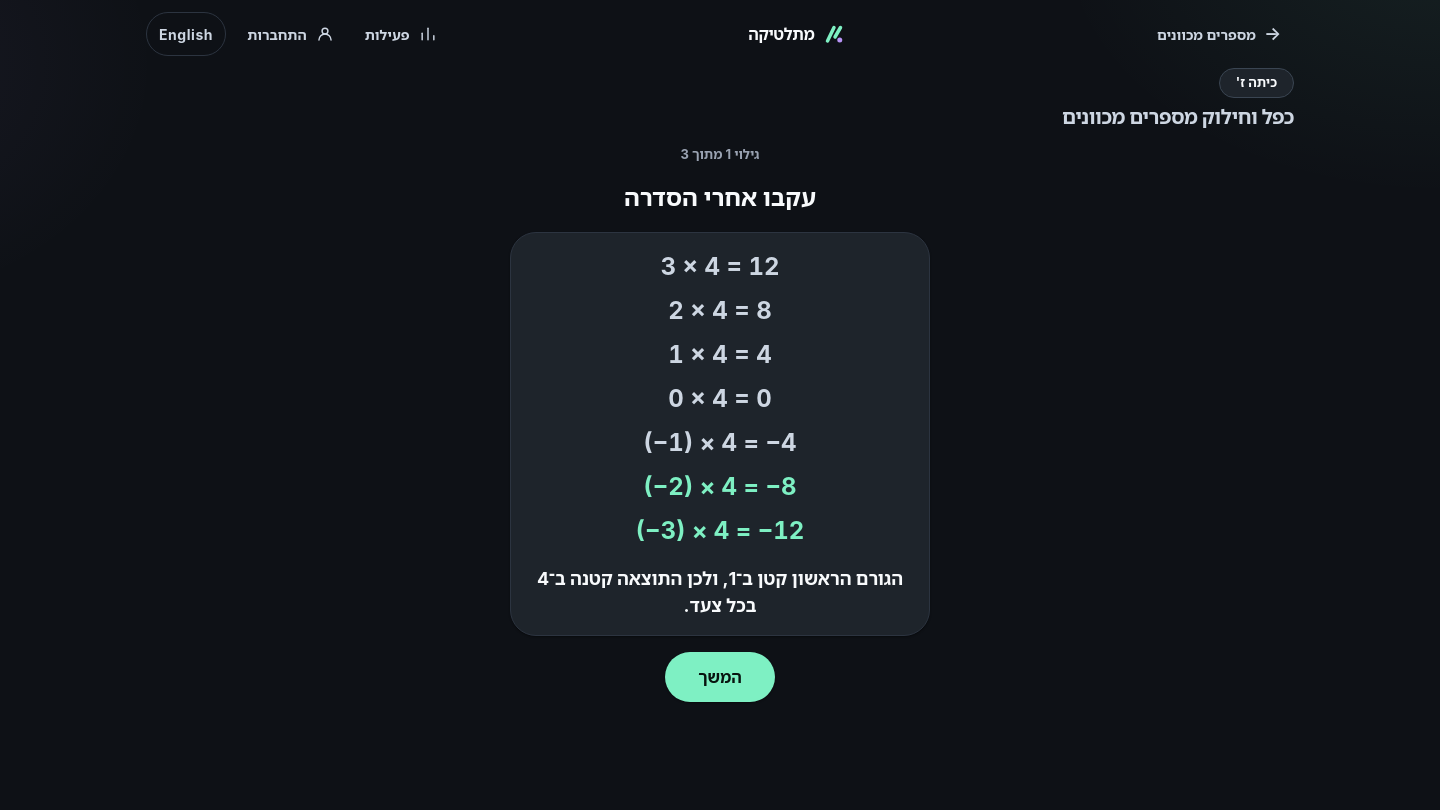
Test case: Multiplying & Dividing Signed Numbers — Training Mode integration › opens shared Practice and Personal Challenge setup after discovery
Click the button "המשך" at {"x": 720, "y": 677}, box x1=665 y1=652 x2=775 y2=702
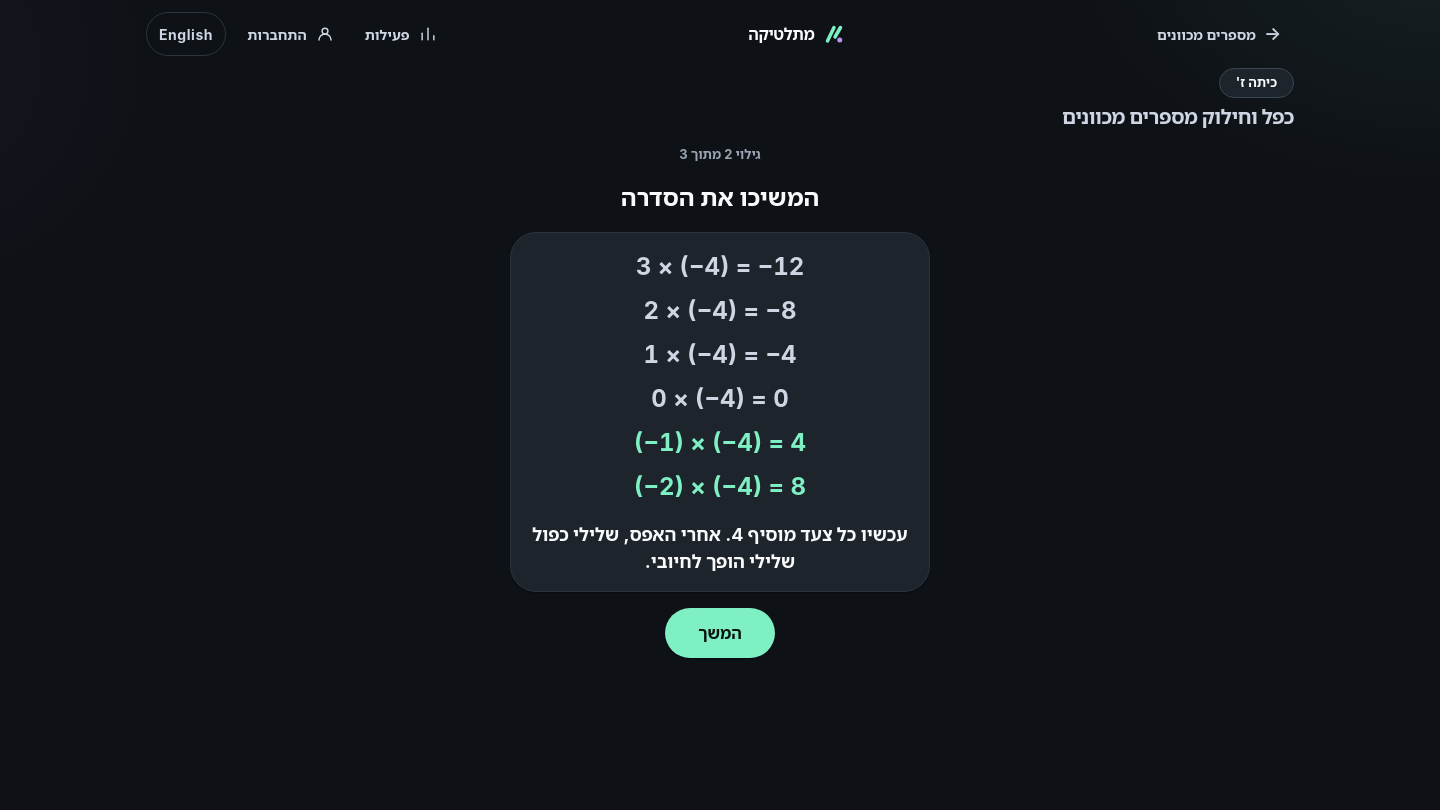
Click the button "המשך" at {"x": 720, "y": 633}, box x1=665 y1=608 x2=775 y2=658
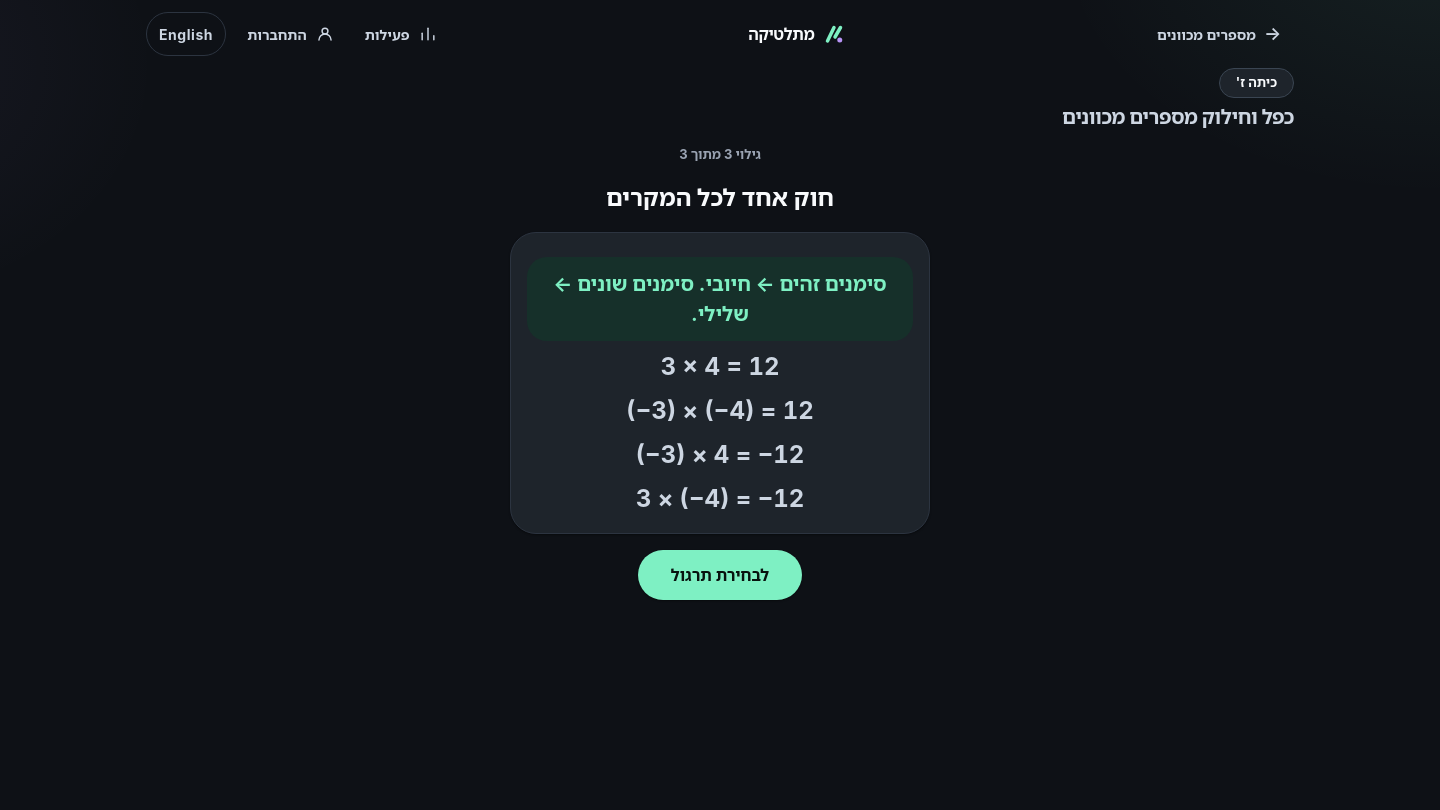
Click the button "לבחירת תרגול" at {"x": 720, "y": 575}, box x1=638 y1=550 x2=802 y2=600
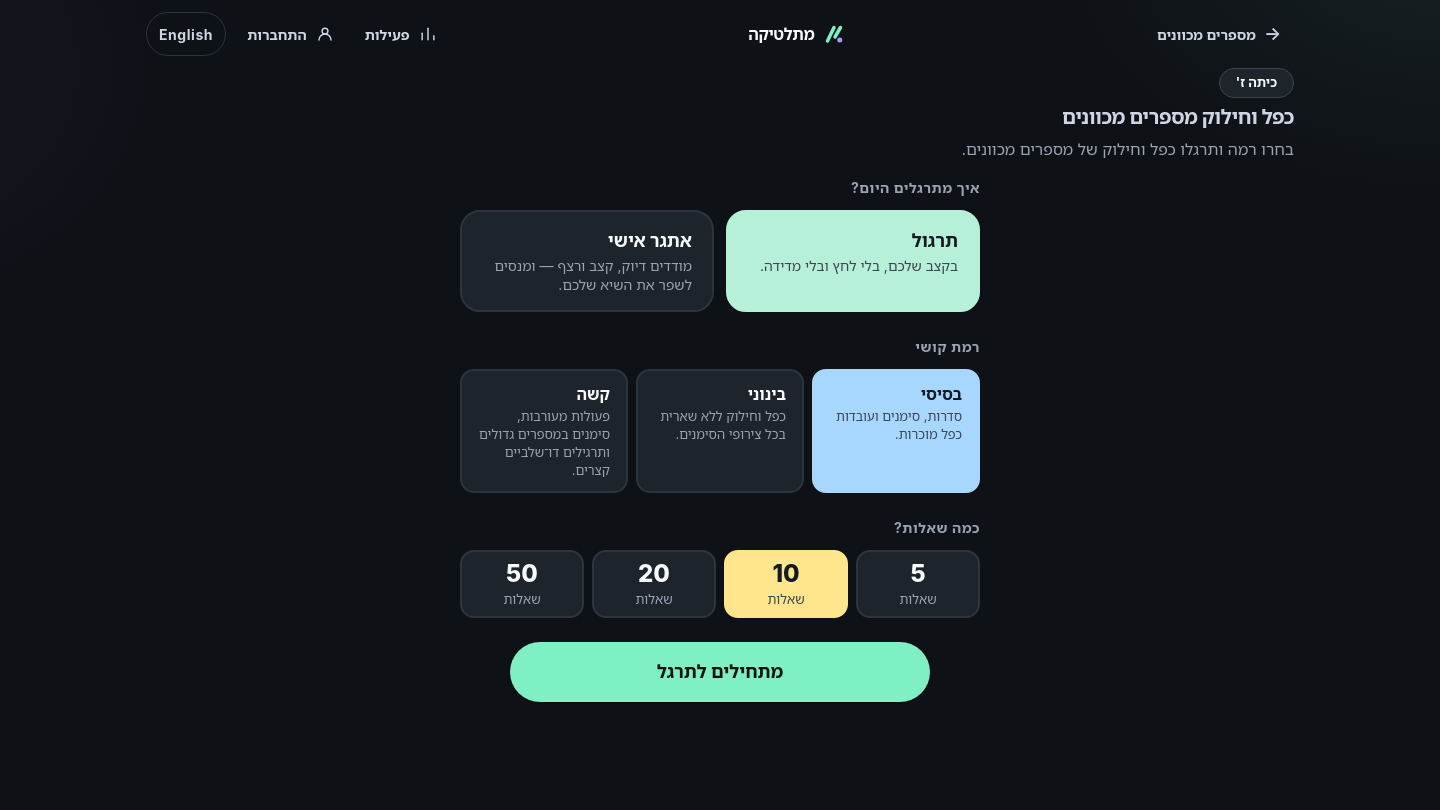
Result: the text "תרגול" is shown at x1=912 y1=228 x2=958 y2=252
Result: the text "אתגר אישי" is shown at x1=608 y1=228 x2=692 y2=252
Result: the text "5" is shown at x1=910 y1=559 x2=926 y2=588
